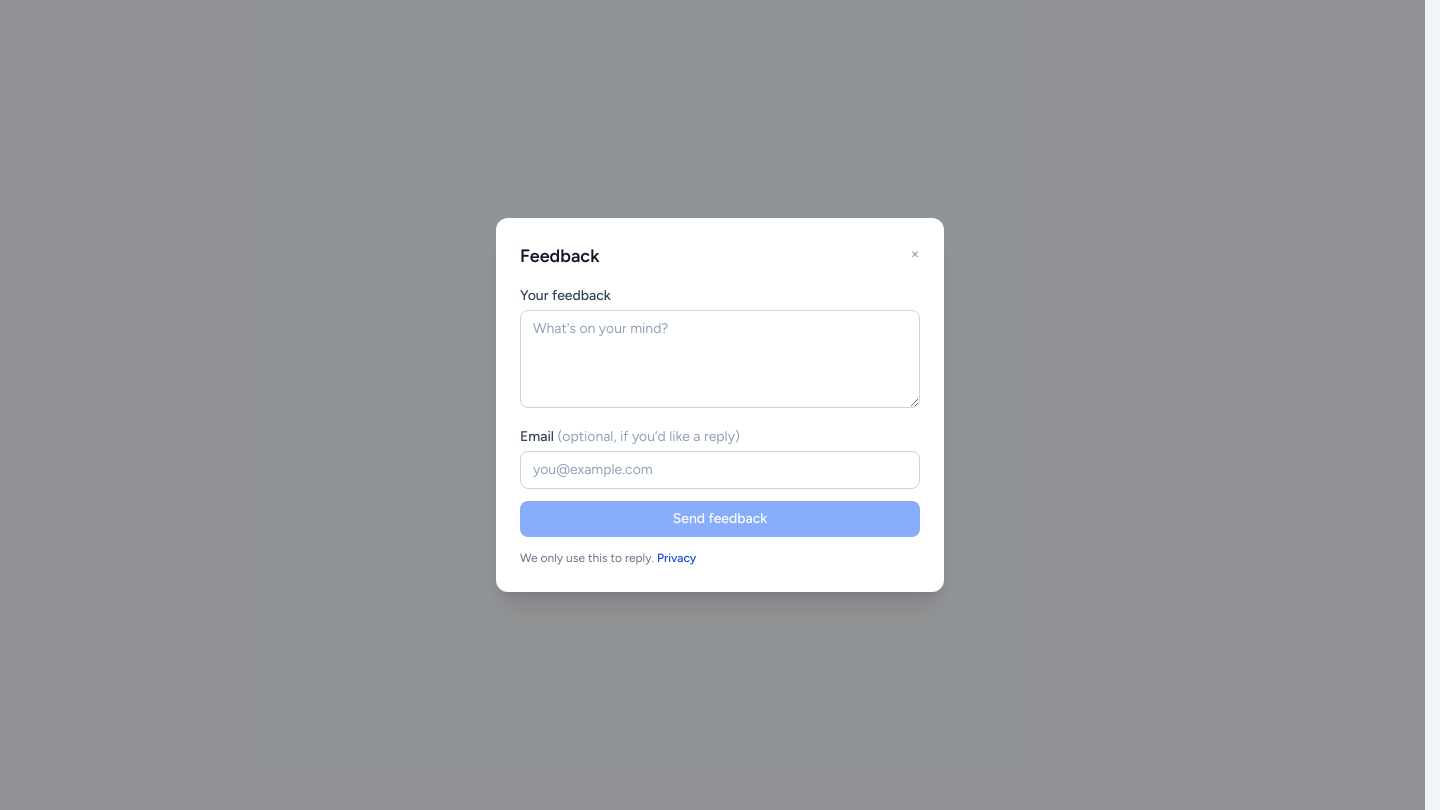
Test: FeedbackForm — inline variant (the mobile /feedback page) › does not offer "Send another message" in the modal variant, which closes instead
This screenshot has width=1440, height=810.
Type "A note" into the text box labelled "Your feedback" at {"x": 720, "y": 359}, box [520,310,920,408]
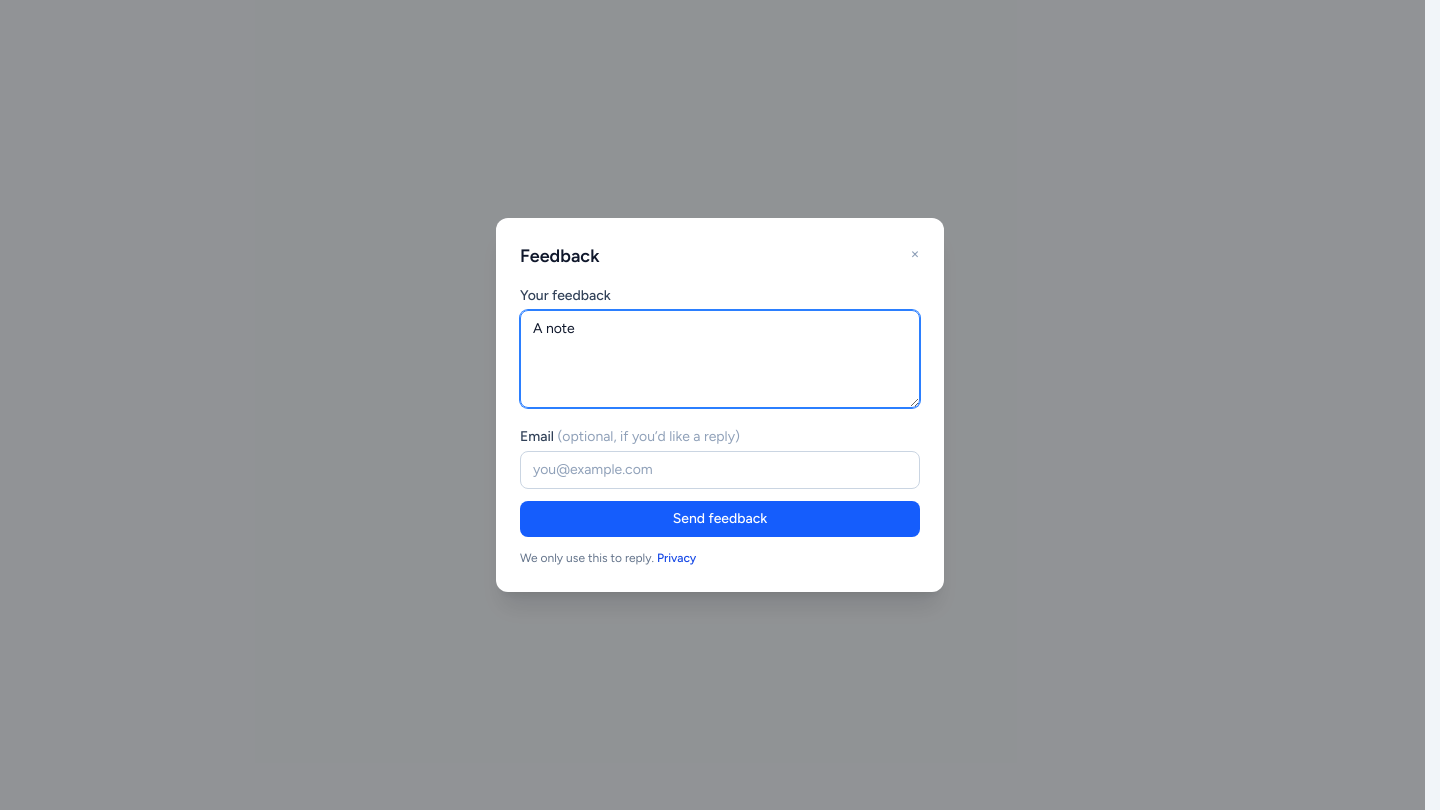
Click the button "Send feedback" at {"x": 720, "y": 519}, box [520,501,920,537]
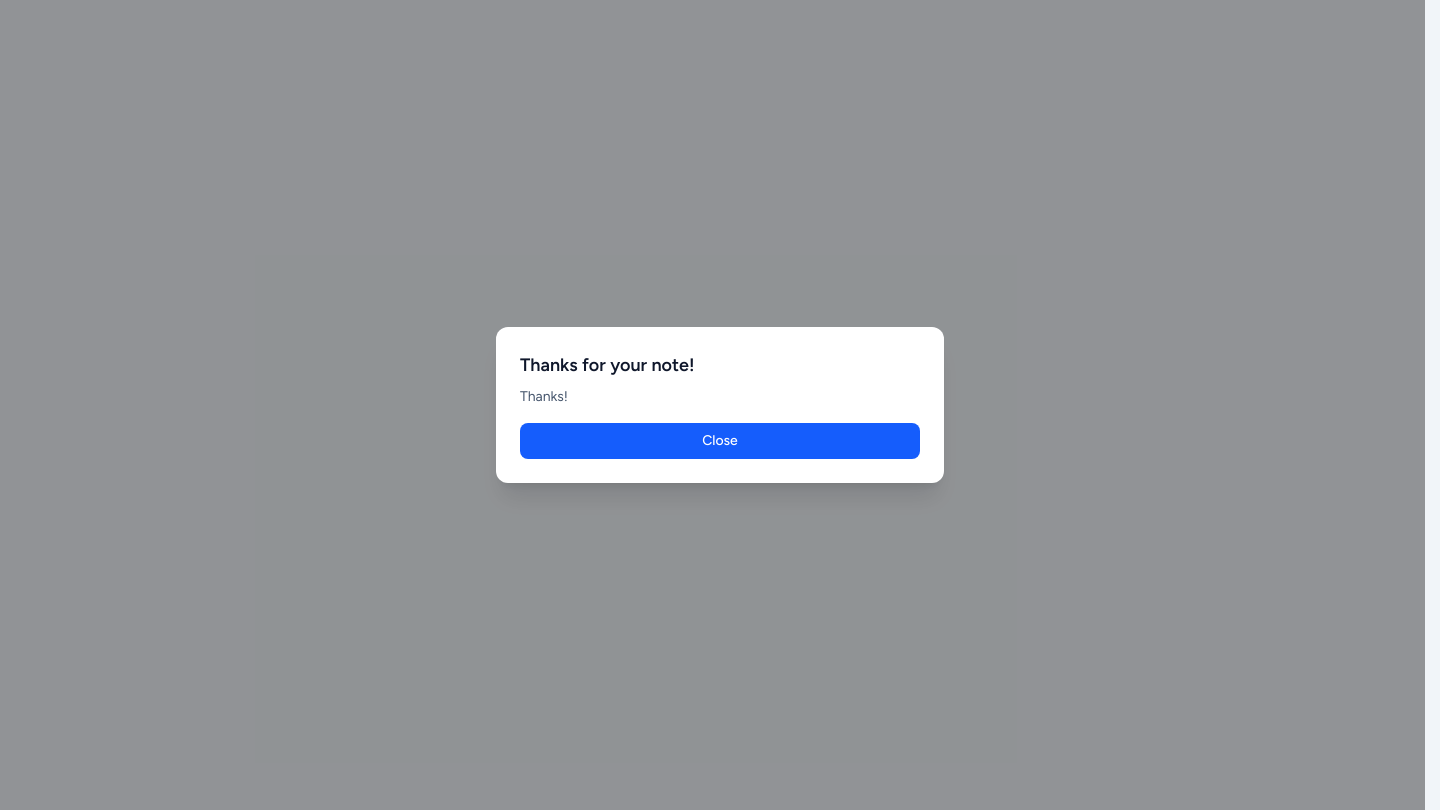
Expected: the heading "Thanks for your note!" is shown, [520,354,694,376]
Expected: the button "Close" is shown, [520,423,920,459]
